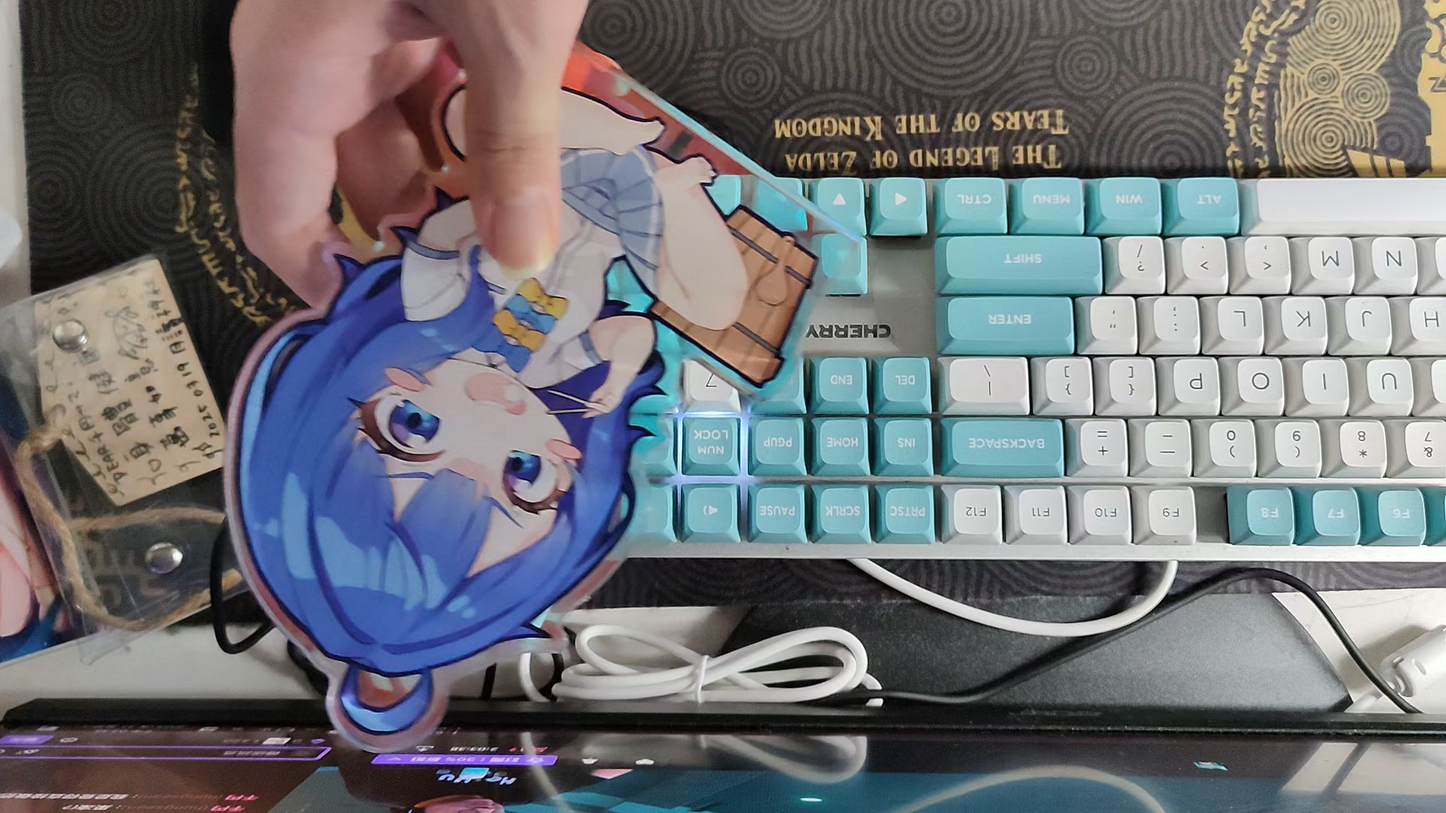Yanami-anna: (221, 11, 866, 755)
